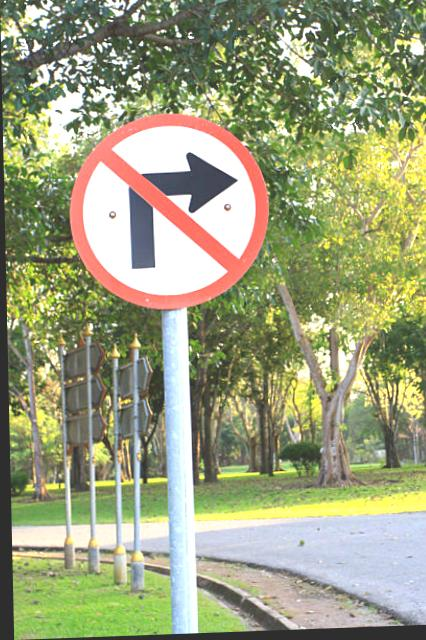not_turn_right: (74, 109, 274, 311)
